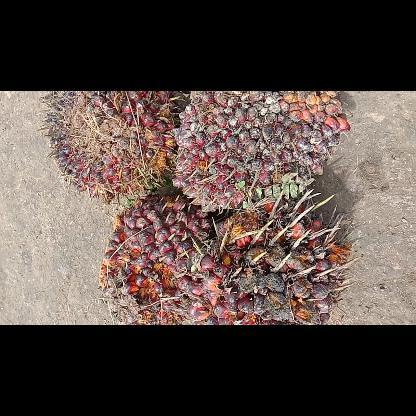Kurang masak: (172, 91, 352, 216), (34, 90, 178, 206)
TBS masak: (187, 196, 367, 324), (96, 192, 224, 324)
